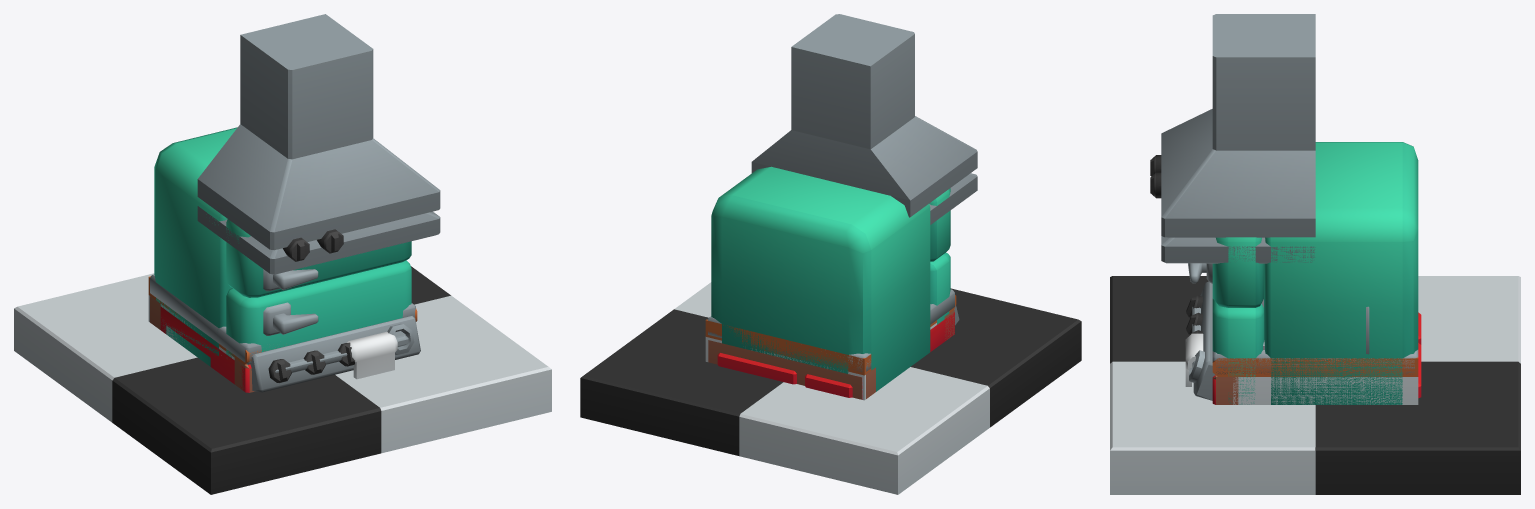
The model's file is kitchen.glb.
3 renders of one model, left to right at view 1: azimuth 30°, elevation 25°; view 2: azimuth 150°, elevation 25°; view 3: azimuth 270°, elevation 25°, orthographic. The views are drawn at different scales.
Visible parts, largest first — view 1: floor_kitchen, extractorhood, fridge_A_decorated, fridge_A_decorated_door_bottom, stove_single, fridge_A_decorated_door_top, kitchencounter_straight_A_decorated, crate_tomatoes; view 2: floor_kitchen, fridge_A_decorated, extractorhood, stove_single, kitchencounter_straight_A, crate_tomatoes, fridge_A_decorated_door_bottom, fridge_A_decorated_door_top, kitchencounter_sink; view 3: floor_kitchen, fridge_A_decorated, extractorhood, kitchencounter_straight_A, stove_single, fridge_A_decorated_door_bottom, fridge_A_decorated_door_top, kitchencounter_sink, kitchencounter_straight_A_decorated, crate_tomatoes.
Part boxes in pixels (bbox=[...]): floor_kitchen: bbox=[14, 266, 551, 494]; extractorhood: bbox=[197, 14, 440, 274]; fridge_A_decorated: bbox=[154, 127, 237, 366]; fridge_A_decorated_door_bottom: bbox=[226, 260, 411, 359]; stove_single: bbox=[150, 274, 420, 392]; fridge_A_decorated_door_top: bbox=[226, 219, 411, 297]; kitchencounter_straight_A_decorated: bbox=[275, 331, 408, 379]; crate_tomatoes: bbox=[150, 296, 254, 392]; floor_kitchen: bbox=[580, 282, 1081, 494]; fridge_A_decorated: bbox=[711, 166, 930, 391]; extractorhood: bbox=[751, 14, 977, 224]; stove_single: bbox=[707, 289, 959, 399]; kitchencounter_straight_A: bbox=[705, 295, 956, 400]; crate_tomatoes: bbox=[708, 309, 954, 399]; fridge_A_decorated_door_bottom: bbox=[930, 252, 950, 324]; fridge_A_decorated_door_top: bbox=[929, 188, 950, 261]; kitchencounter_sink: bbox=[705, 295, 956, 375]; floor_kitchen: bbox=[1110, 276, 1520, 494]; fridge_A_decorated: bbox=[1264, 142, 1418, 404]; extractorhood: bbox=[1150, 14, 1315, 263]; kitchencounter_straight_A: bbox=[1212, 357, 1418, 404]; stove_single: bbox=[1186, 281, 1421, 404]; fridge_A_decorated_door_bottom: bbox=[1188, 263, 1263, 404]; fridge_A_decorated_door_top: bbox=[1212, 237, 1263, 307]; kitchencounter_sink: bbox=[1212, 357, 1418, 404]; kitchencounter_straight_A_decorated: bbox=[1185, 299, 1369, 386]; crate_tomatoes: bbox=[1213, 375, 1238, 404].
Bounding box in the file's own units: 4 × 4 × 4.
1 material, 1 textured.
